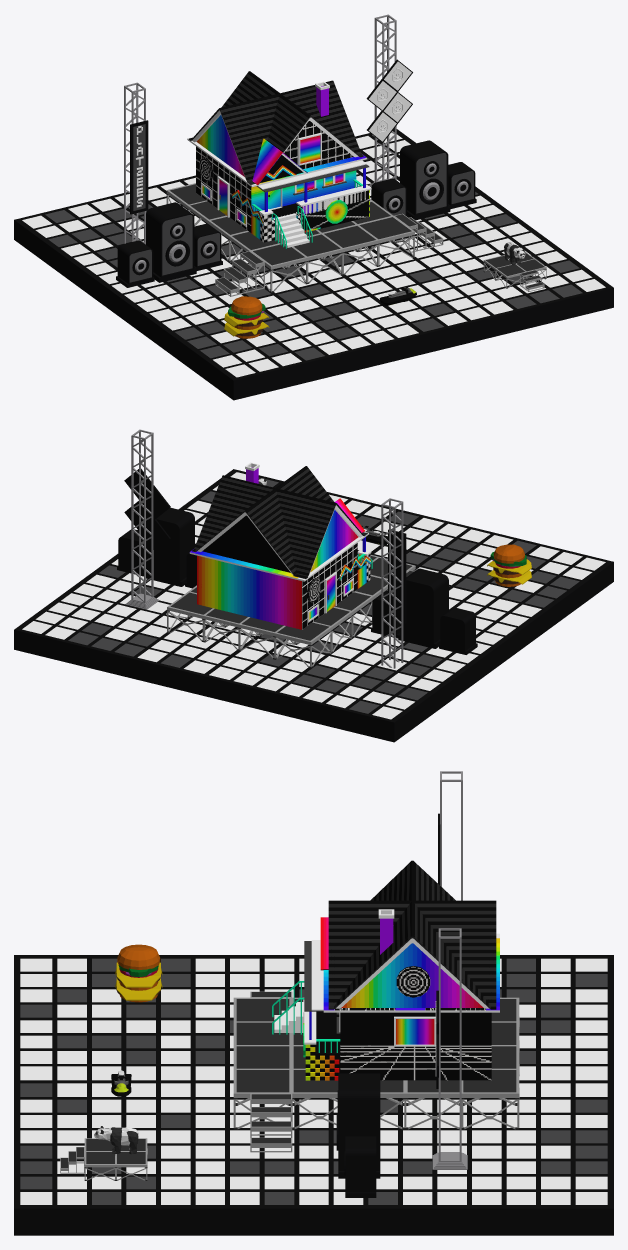
The picture shows the model from 3 angles, top to bottom: view 1: azimuth 30°, elevation 25°; view 2: azimuth 150°, elevation 25°; view 3: azimuth 270°, elevation 25°; orthographic projection. The views are drawn at different scales.
Visible parts, largest first — view 1: Cube.008, Cube.1320, OBJRANDOM_HAMBURGER; view 2: Cube.008, Cube.1320, OBJRANDOM_HAMBURGER; view 3: Cube.008, Cube.1320, OBJRANDOM_HAMBURGER, ANIMAL_PANDA.
Part boxes in pixels (x1,y1,x2,y2): Cube.008: [14, 14, 613, 400]; Cube.1320: [187, 71, 371, 248]; OBJRANDOM_HAMBURGER: [224, 296, 269, 338]; Cube.008: [14, 429, 613, 742]; Cube.1320: [189, 462, 372, 629]; OBJRANDOM_HAMBURGER: [487, 544, 531, 586]; Cube.008: [14, 771, 613, 1235]; Cube.1320: [272, 860, 499, 1080]; OBJRANDOM_HAMBURGER: [115, 944, 162, 1002]; ANIMAL_PANDA: [94, 1126, 138, 1154].
Bounding box in the file's own units: 4000 × 1995 × 4000.
31 materials, 4 textured.
